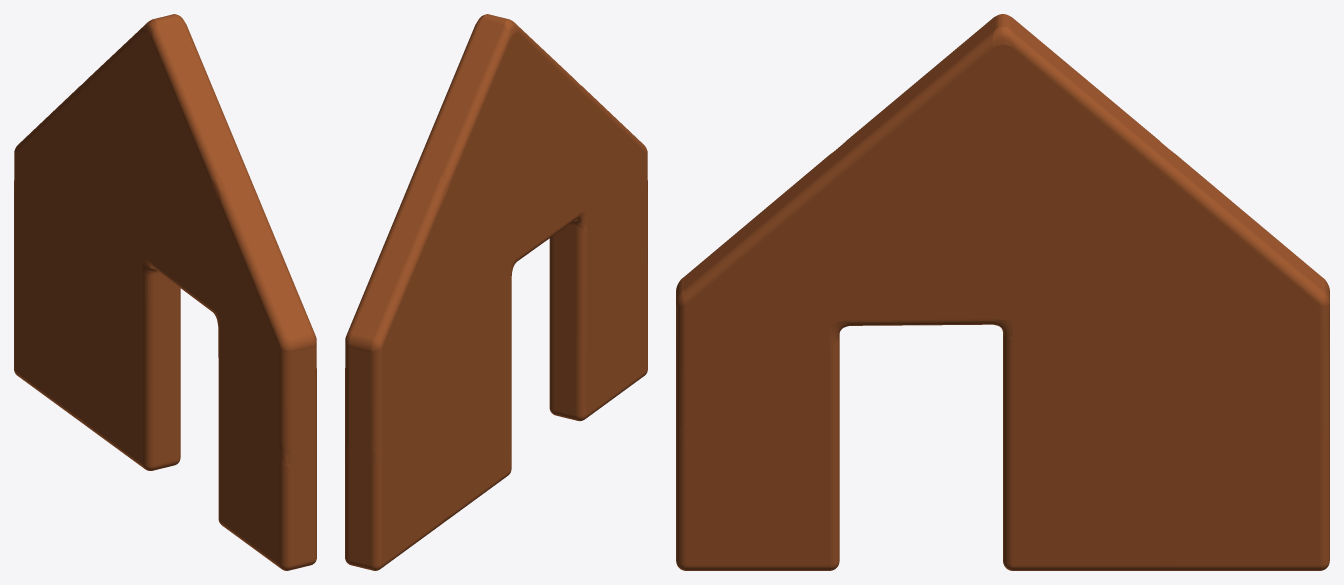
File: Gingerbread Back Front Wall - scaled.fbx
3 renders of one model, left to right at view 1: azimuth 30°, elevation 25°; view 2: azimuth 150°, elevation 25°; view 3: azimuth 270°, elevation 25°, orthographic. The views are drawn at different scales.
Visible parts, largest first — view 1: Cube; view 2: Cube; view 3: Cube.
Part boxes in pixels (<box>): Cube: <box>14,14,316,570</box>; Cube: <box>345,14,647,570</box>; Cube: <box>676,14,1329,570</box>.
Bounding box in the file's own units: 15.06 × 179 × 195.
